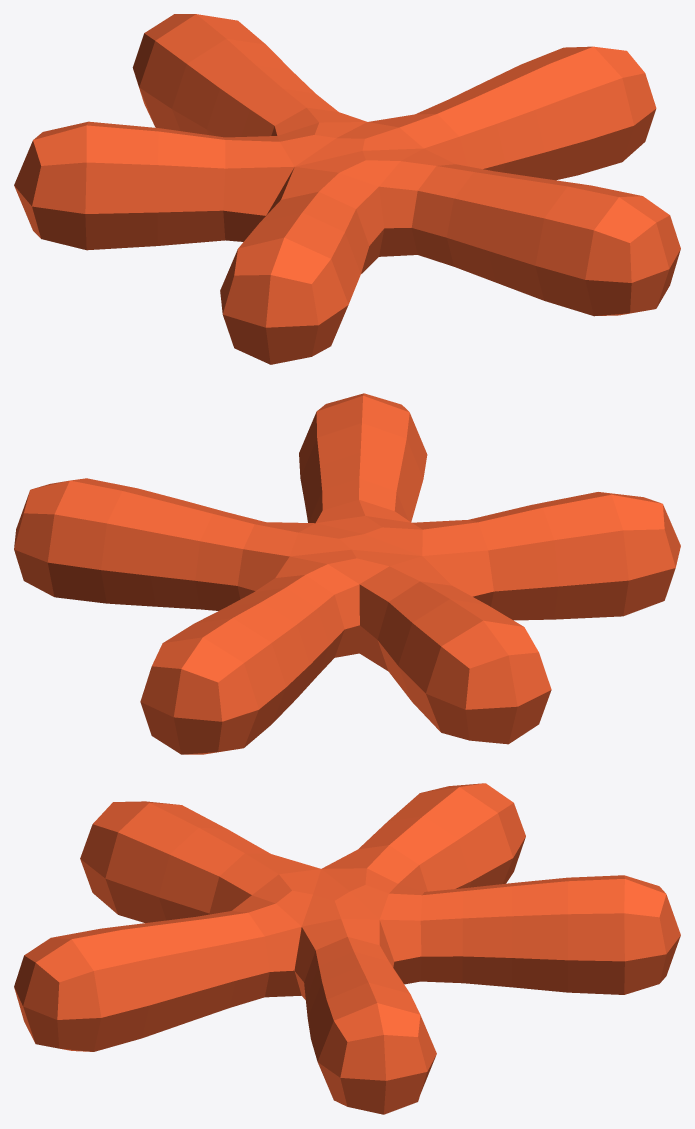
Rendered from starfish2.fbx.
The picture shows the model from 3 angles, top to bottom: view 1: azimuth 30°, elevation 25°; view 2: azimuth 150°, elevation 25°; view 3: azimuth 270°, elevation 25°; orthographic projection. The views are drawn at different scales.
Parts seen in each view (by area): view 1: Starfish2; view 2: Starfish2; view 3: Starfish2.
Boxes of the visible parts, left/top/right/bottom form: Starfish2: left=14, top=14, right=680, bottom=364; Starfish2: left=14, top=393, right=680, bottom=754; Starfish2: left=14, top=783, right=680, bottom=1114.
Bounding box in the file's own units: 51.18 × 10.29 × 54.39.
